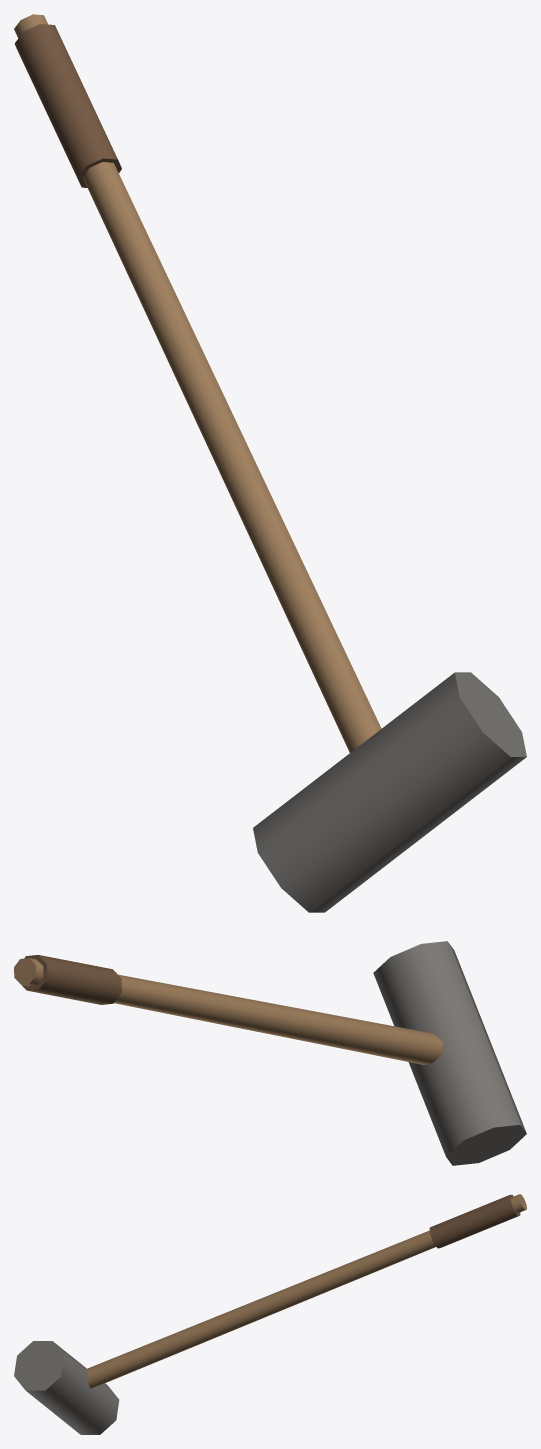
The model's file is wpn_maul.glb.
3 views of the same model, one above another, from view 1: azimuth 30°, elevation 25°; view 2: azimuth 150°, elevation 25°; view 3: azimuth 270°, elevation 25° (orthographic). The views are drawn at different scales.
Parts seen in each view (by area): view 1: wpn_maul; view 2: wpn_maul; view 3: wpn_maul.
Boxes of the visible parts, x1=… form: wpn_maul: x1=14, y1=14, x2=526, y2=912; wpn_maul: x1=14, y1=941, x2=526, y2=1165; wpn_maul: x1=14, y1=1194, x2=526, y2=1434.
Size of the model in its own units: 0.1439 by 0.3371 by 0.5689.
